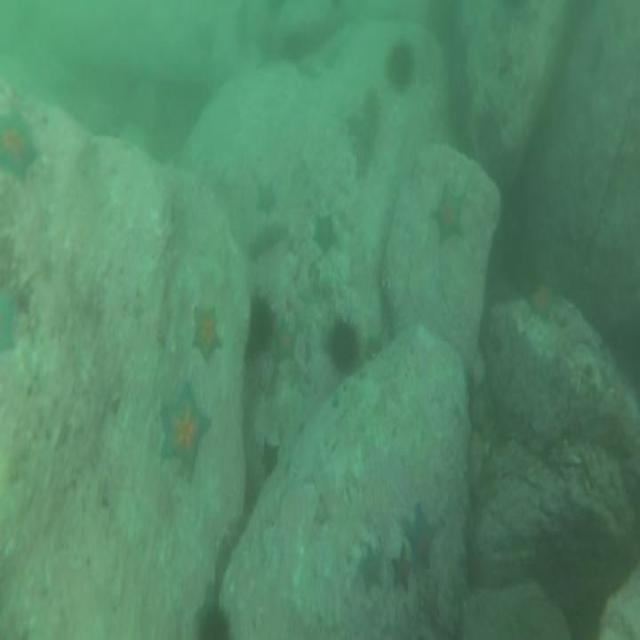echinus: (322, 310, 362, 381), (246, 287, 278, 363), (384, 38, 419, 98), (196, 600, 233, 640)
starfish: (158, 382, 214, 479), (0, 104, 39, 184), (402, 501, 441, 578), (430, 179, 470, 251), (188, 297, 225, 370), (522, 278, 562, 326), (309, 207, 342, 261), (0, 272, 20, 360), (357, 537, 385, 596), (268, 314, 300, 364), (255, 433, 284, 485), (388, 544, 414, 597), (251, 178, 280, 224), (353, 130, 376, 187), (360, 327, 384, 368), (362, 84, 382, 132), (343, 107, 365, 144)
